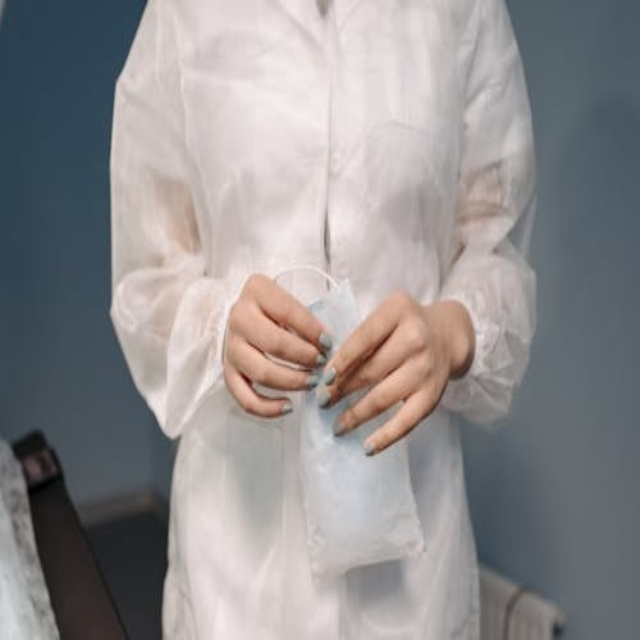Sin_guantes: (317, 284, 462, 458), (222, 272, 334, 420)
